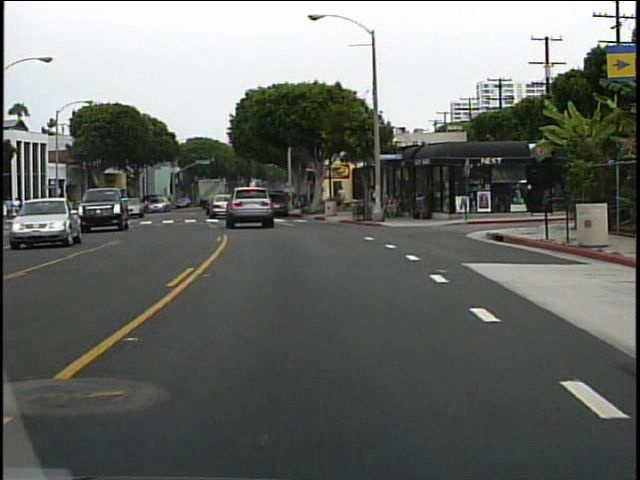person: (363, 186, 379, 220)
